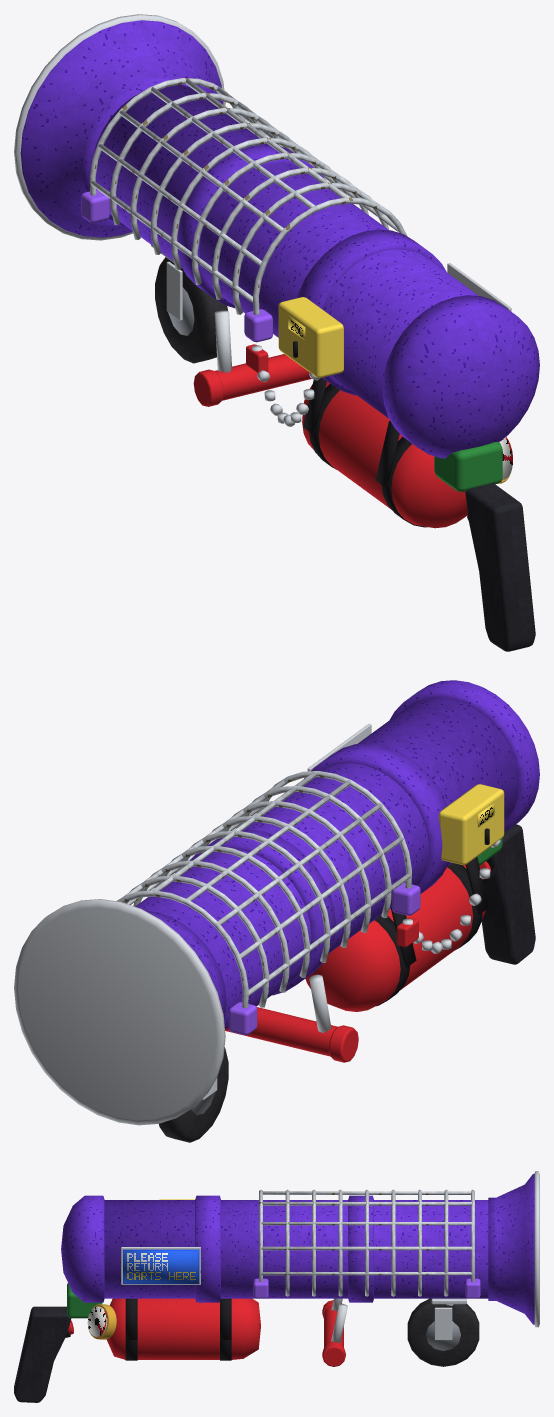
Rendered from w_cart.glb.
The picture shows the model from 3 angles, top to bottom: view 1: azimuth 30°, elevation 25°; view 2: azimuth 150°, elevation 25°; view 3: azimuth 270°, elevation 25°; orthographic projection. The views are drawn at different scales.
Parts seen in each view (by area): view 1: cart_body_wzB, cart_body_wzA, cart_body_wzN; view 2: cart_body_wzB, cart_body_wzA, cart_body_wzN; view 3: cart_body_wzB, cart_body_wzA, cart_body_wzN.
Boxes of the visible parts, bbox=[...] form: cart_body_wzB: bbox=[14, 14, 539, 458]; cart_body_wzA: bbox=[193, 341, 535, 651]; cart_body_wzN: bbox=[81, 189, 512, 483]; cart_body_wzB: bbox=[14, 680, 539, 1125]; cart_body_wzA: bbox=[225, 824, 535, 1062]; cart_body_wzN: bbox=[159, 784, 504, 1142]; cart_body_wzB: bbox=[61, 1171, 539, 1342]; cart_body_wzA: bbox=[14, 1283, 345, 1402]; cart_body_wzN: bbox=[87, 1199, 480, 1366].
Size of the model in its own units: 0.266 by 0.4147 by 0.894.
Materials: 17 (7 with a texture image).
